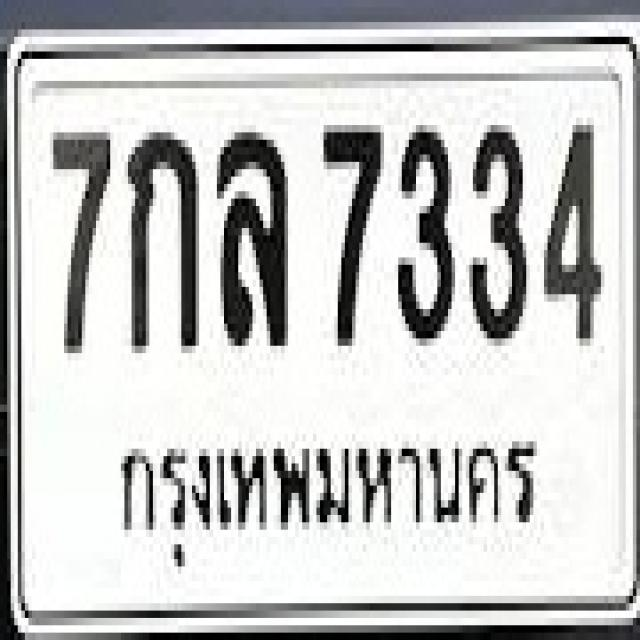license_plate: (6, 28, 640, 640)
